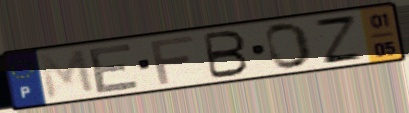B: (202, 28, 251, 81)
E: (87, 41, 142, 96)
F: (147, 34, 196, 86)
M: (36, 48, 98, 102)
O: (263, 21, 315, 71)
Z: (311, 14, 367, 66)
